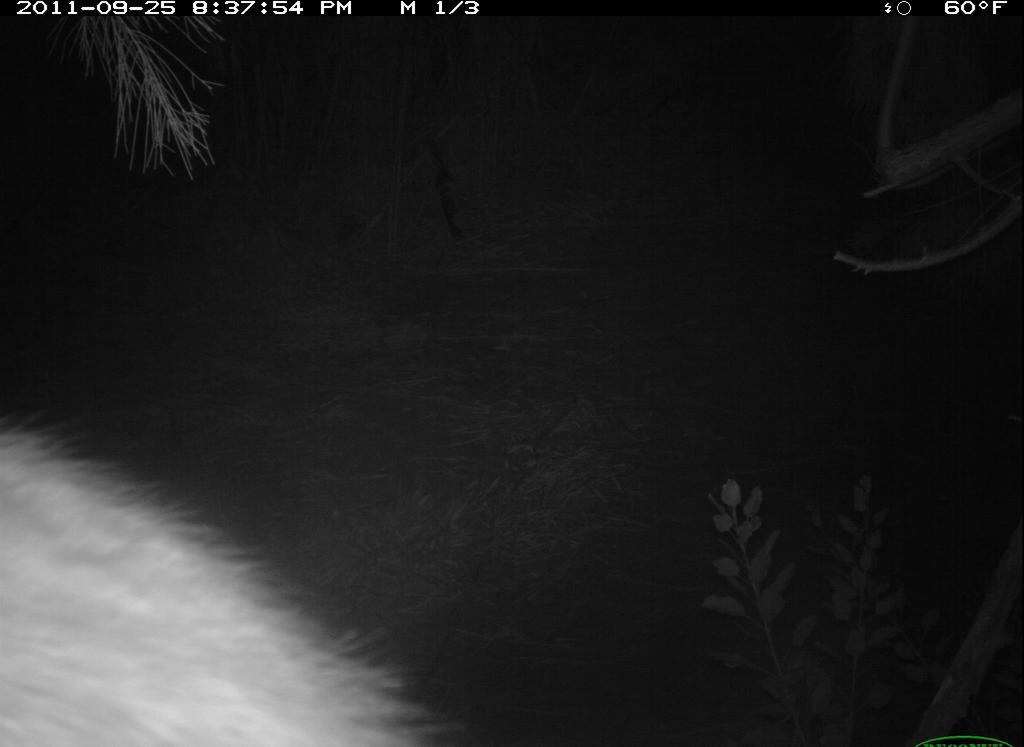raccoon: (2, 404, 466, 747)
